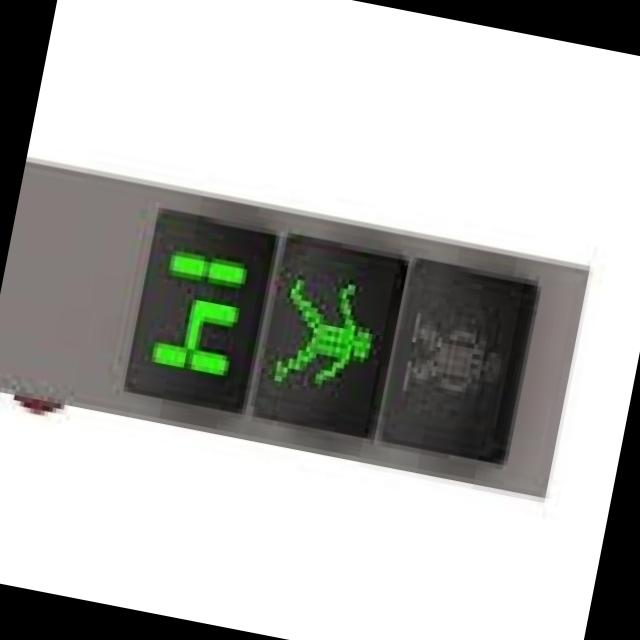green_light: (125, 211, 399, 435)
